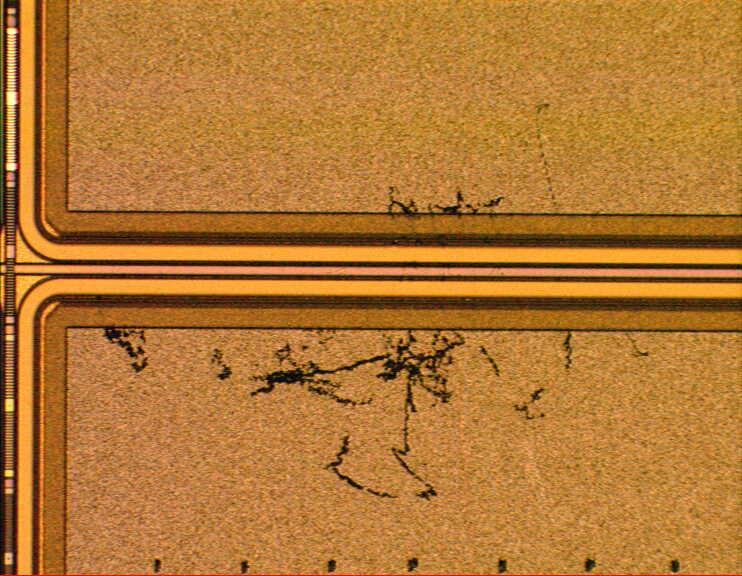SCRATCH: (89, 95, 660, 505)
